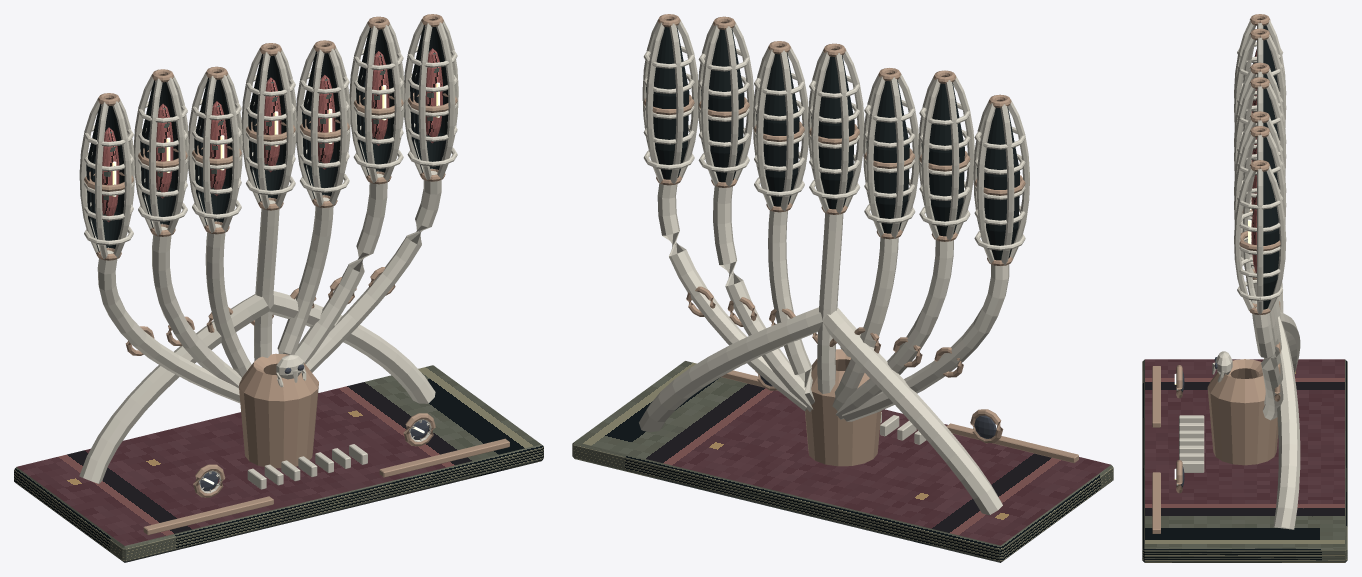
The model's file is ossuary_seven_reservoirs.glb.
The picture shows the model from 3 angles, left to right: view 1: azimuth 30°, elevation 25°; view 2: azimuth 150°, elevation 25°; view 3: azimuth 270°, elevation 25°; orthographic projection. The views are drawn at different scales.
Visible parts, largest first — view 1: ossuary_seven_reservoirs_warm, ossuary_seven_reservoirs_petrol, ossuary_seven_reservoirs_worn, ossuary_seven_reservoirs_suture, ossuary_seven_reservoirs_sick; view 2: ossuary_seven_reservoirs_warm, ossuary_seven_reservoirs_petrol, ossuary_seven_reservoirs_worn; view 3: ossuary_seven_reservoirs_petrol, ossuary_seven_reservoirs_warm, ossuary_seven_reservoirs_worn, ossuary_seven_reservoirs_suture.
Part boxes in pixels (<box>): ossuary_seven_reservoirs_warm: <box>79,19,458,493</box>; ossuary_seven_reservoirs_petrol: <box>14,25,543,562</box>; ossuary_seven_reservoirs_worn: <box>84,14,509,535</box>; ossuary_seven_reservoirs_suture: <box>102,48,442,222</box>; ossuary_seven_reservoirs_sick: <box>112,82,439,484</box>; ossuary_seven_reservoirs_warm: <box>639,19,1029,515</box>; ossuary_seven_reservoirs_petrol: <box>572,26,1113,562</box>; ossuary_seven_reservoirs_worn: <box>643,14,1078,466</box>; ossuary_seven_reservoirs_petrol: <box>1142,25,1347,562</box>; ossuary_seven_reservoirs_warm: <box>1176,20,1300,529</box>; ossuary_seven_reservoirs_worn: <box>1152,14,1280,533</box>; ossuary_seven_reservoirs_suture: <box>1251,49,1256,273</box>.
Bounding box in the file's own units: 6.25 × 5.95 × 2.85.
6 materials, 2 textured.
